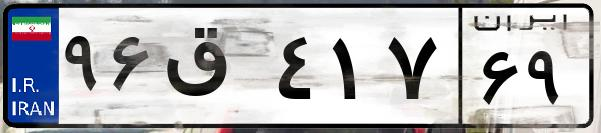1: (330, 28, 385, 110)
4: (270, 28, 330, 110)
6: (475, 38, 525, 113), (110, 28, 158, 98)
7: (385, 28, 445, 110)
9: (57, 26, 110, 100), (525, 38, 570, 115)
ق: (158, 20, 270, 120)
